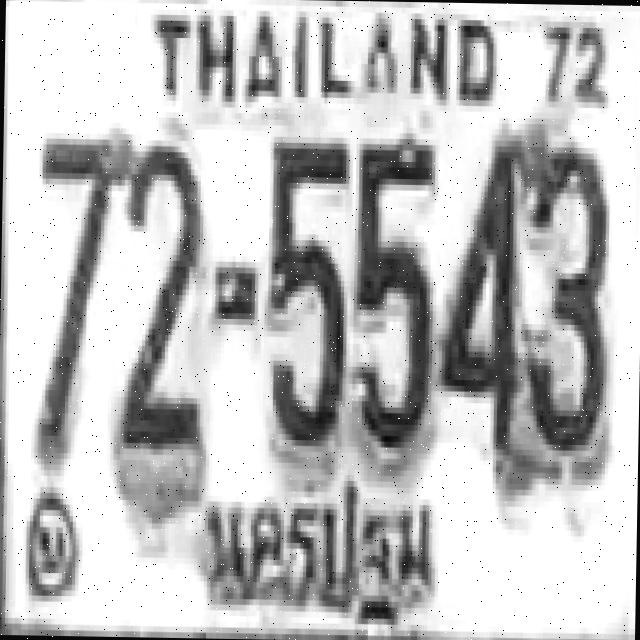2: (113, 133, 205, 460), (114, 145, 204, 443)
3: (517, 132, 612, 477)
4: (436, 131, 524, 452)
5: (350, 132, 436, 454), (264, 136, 348, 452)
7: (29, 130, 127, 468)
NakhonPathom: (188, 479, 444, 638)
